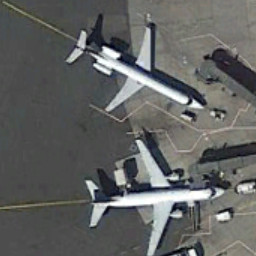Airplane: (75, 136, 234, 256), (62, 15, 214, 123)
